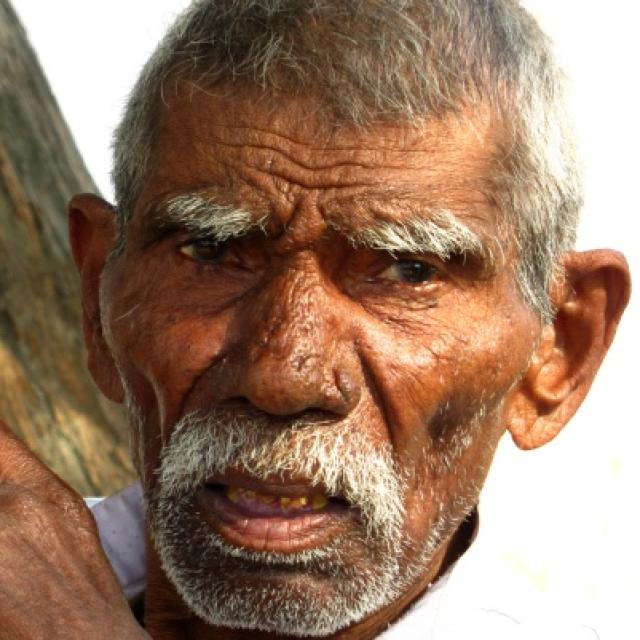Depress: (96, 64, 544, 638)
